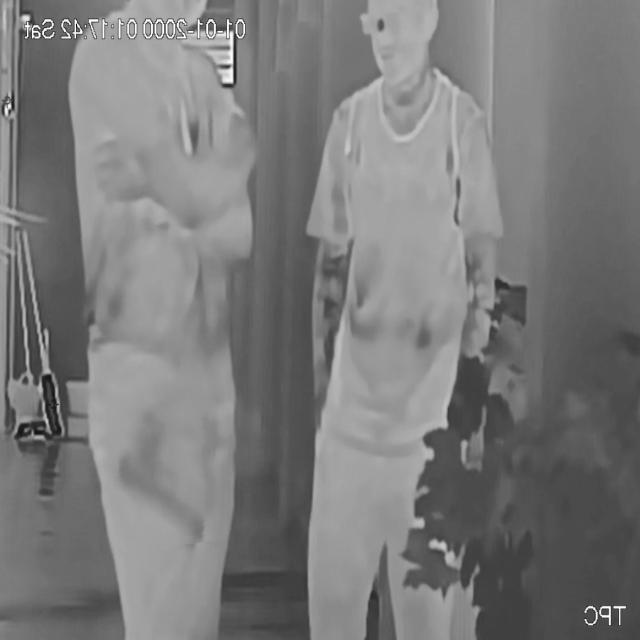Weapon: (110, 400, 218, 550)
